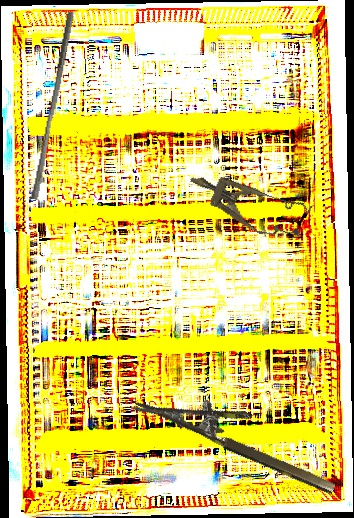Needle Holder: (133, 369, 348, 497)
Pusher: (30, 10, 75, 201)
Speculum: (181, 157, 314, 249)
